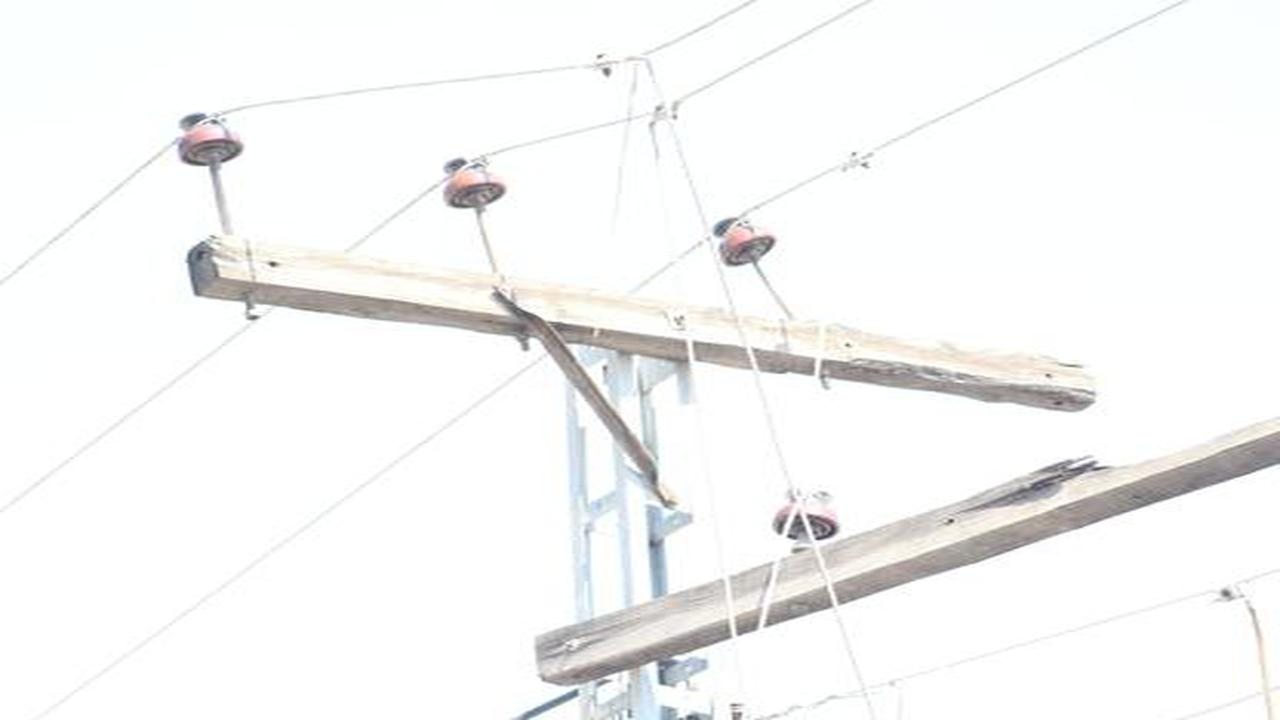insulator_pin: (436, 153, 510, 217), (709, 205, 780, 271), (176, 108, 245, 171), (768, 485, 841, 542)
